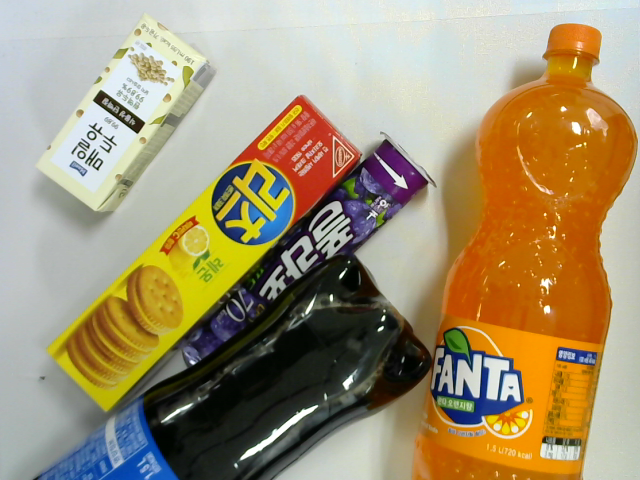99.89_Soymilk: (35, 13, 213, 227)
Hwanta_Orange_1.5L: (409, 15, 640, 478)
Pepsi_Cola_1.5L: (22, 248, 434, 480)
Polapo_Grape: (171, 128, 438, 383)
Ritz_Remon_96g: (44, 88, 367, 423)
